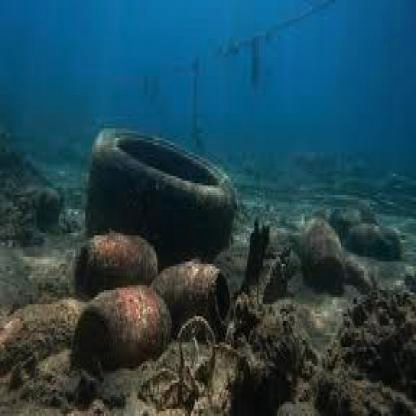gbottle: (70, 230, 164, 312), (85, 285, 169, 371), (154, 247, 226, 345), (299, 209, 350, 309)
tire: (101, 131, 236, 264)
